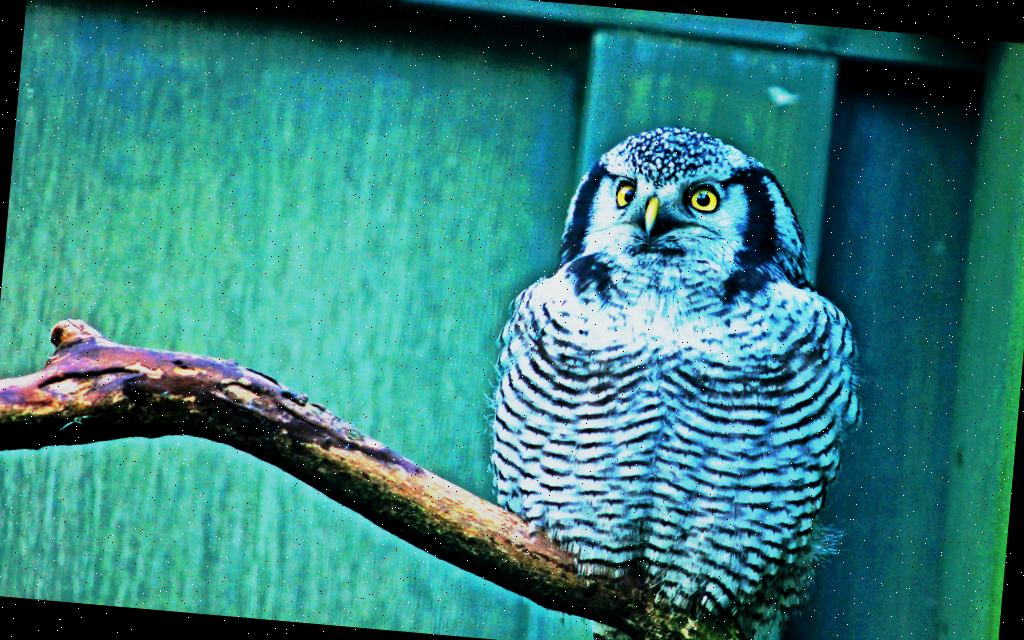Owl: (465, 108, 881, 640)
